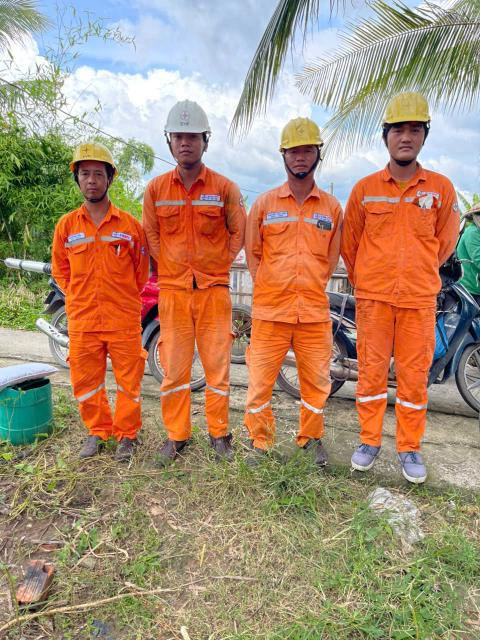helmet: (146, 90, 213, 140), (269, 111, 341, 156), (375, 82, 434, 132), (68, 136, 123, 172)
shoes: (241, 433, 290, 470), (106, 427, 144, 473), (296, 426, 328, 470), (395, 444, 424, 492), (351, 428, 380, 473), (148, 429, 183, 462), (206, 426, 235, 462), (75, 423, 103, 459)
